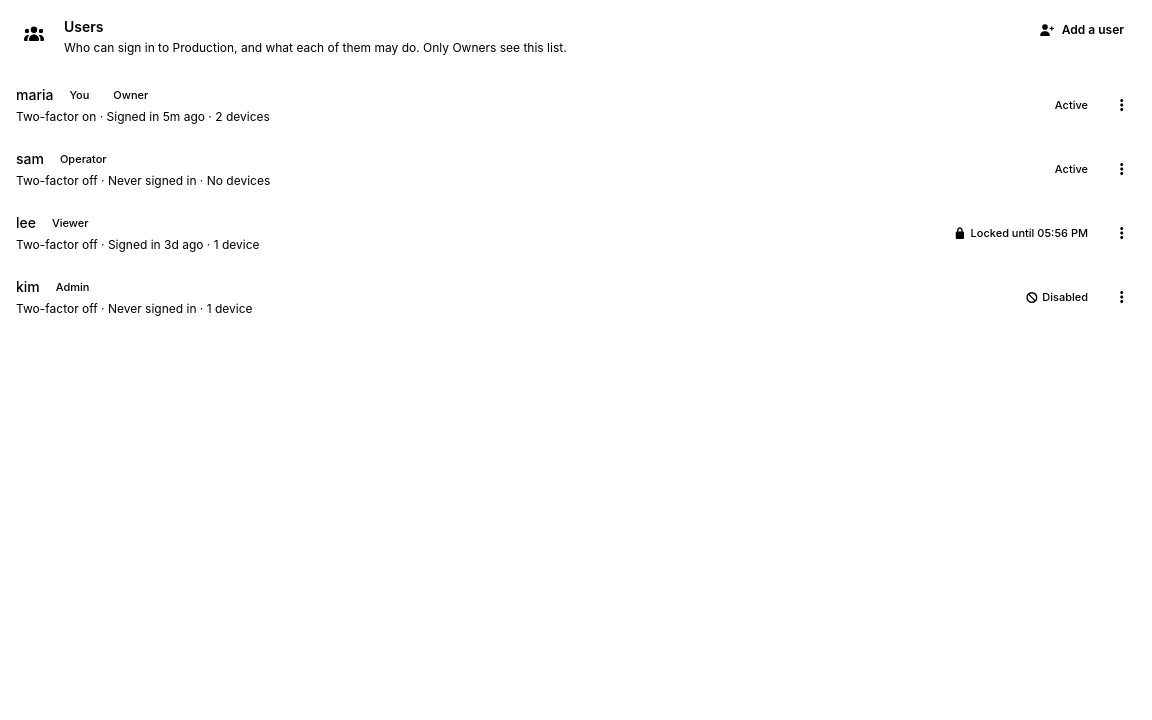
Scenario: UsersCard › keeps the dialog open with the core's reason when it refuses the new user
Click the button "Add a user": click(1081, 30) [1027,16,1136,44]
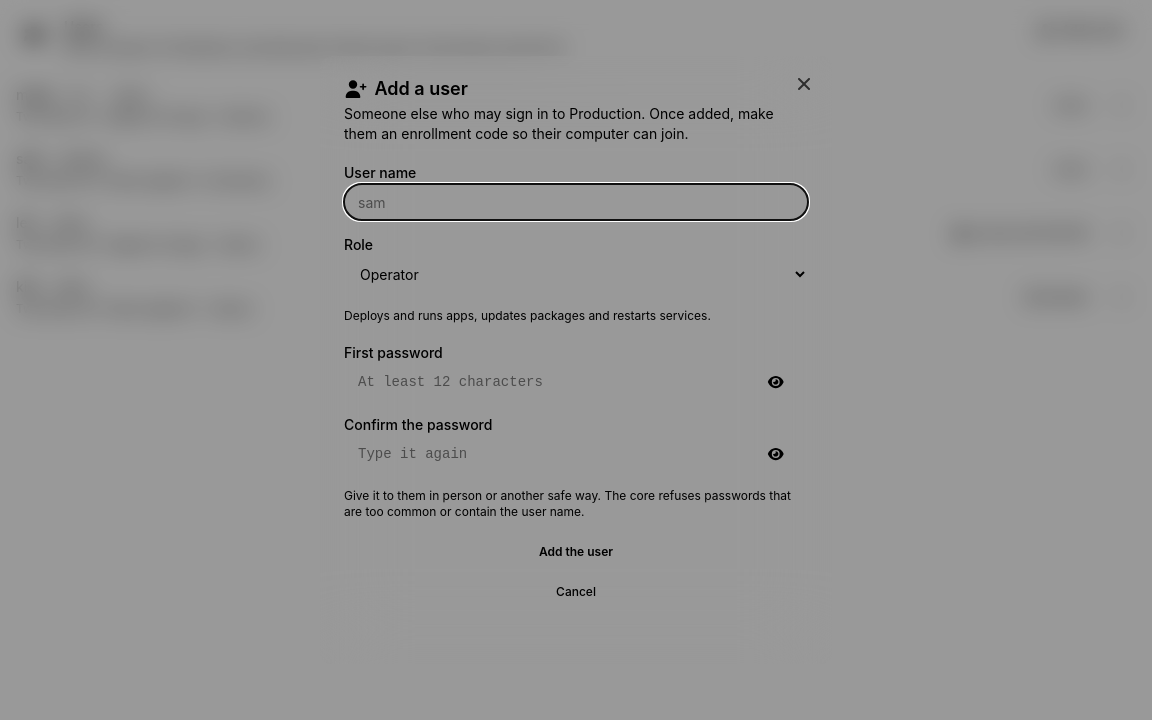
In the field labelled "User name": (576, 202) [344,184,808,220], type "ana"
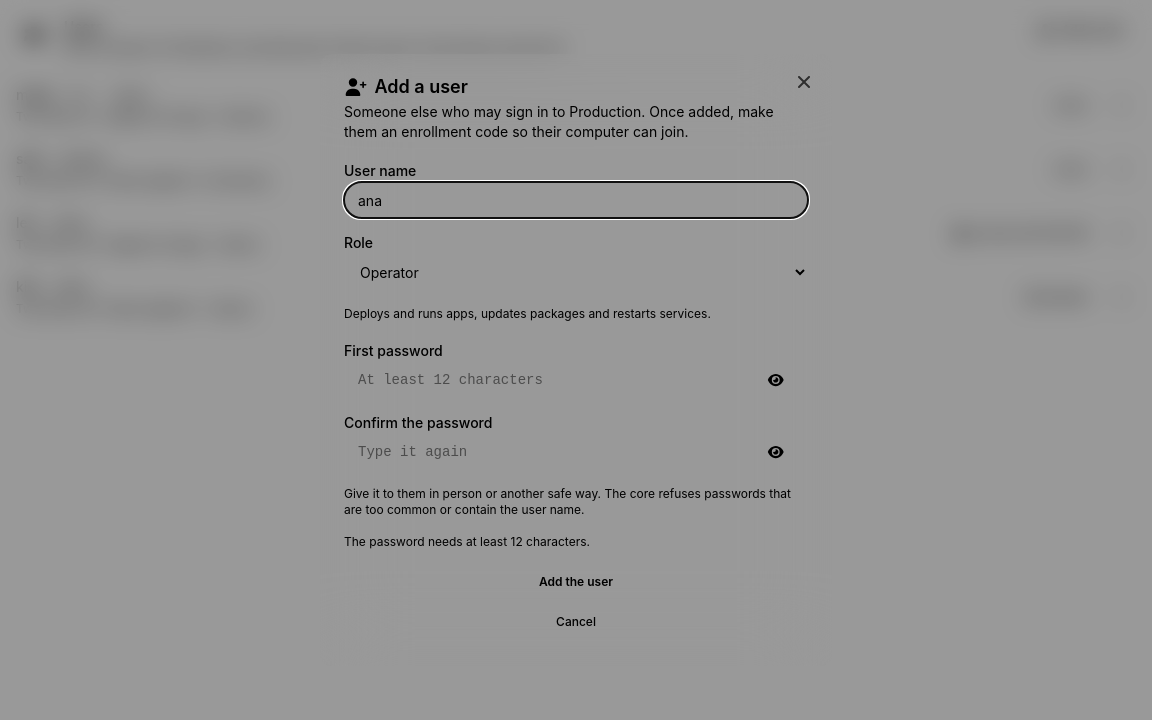
In the password field labelled "First password": (576, 380) [344,362,808,398], type "a brand new passphrase"
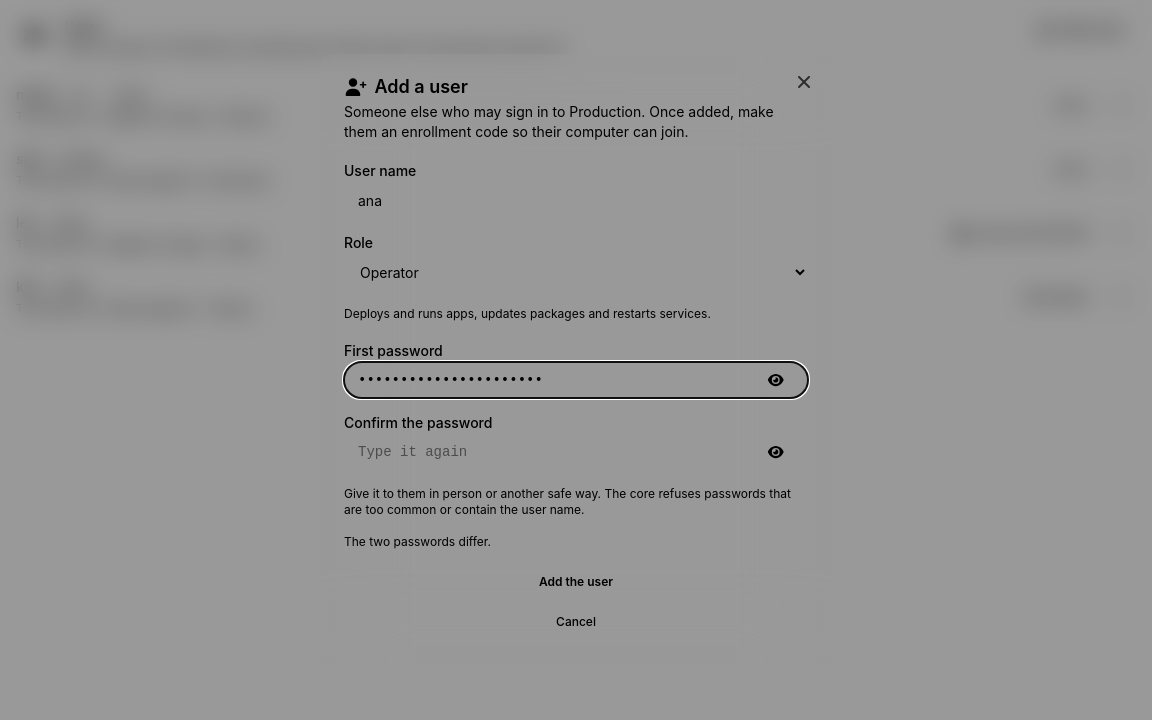
In the password field labelled "Confirm the password": (576, 452) [344,434,808,470], type "a brand new passphrase"
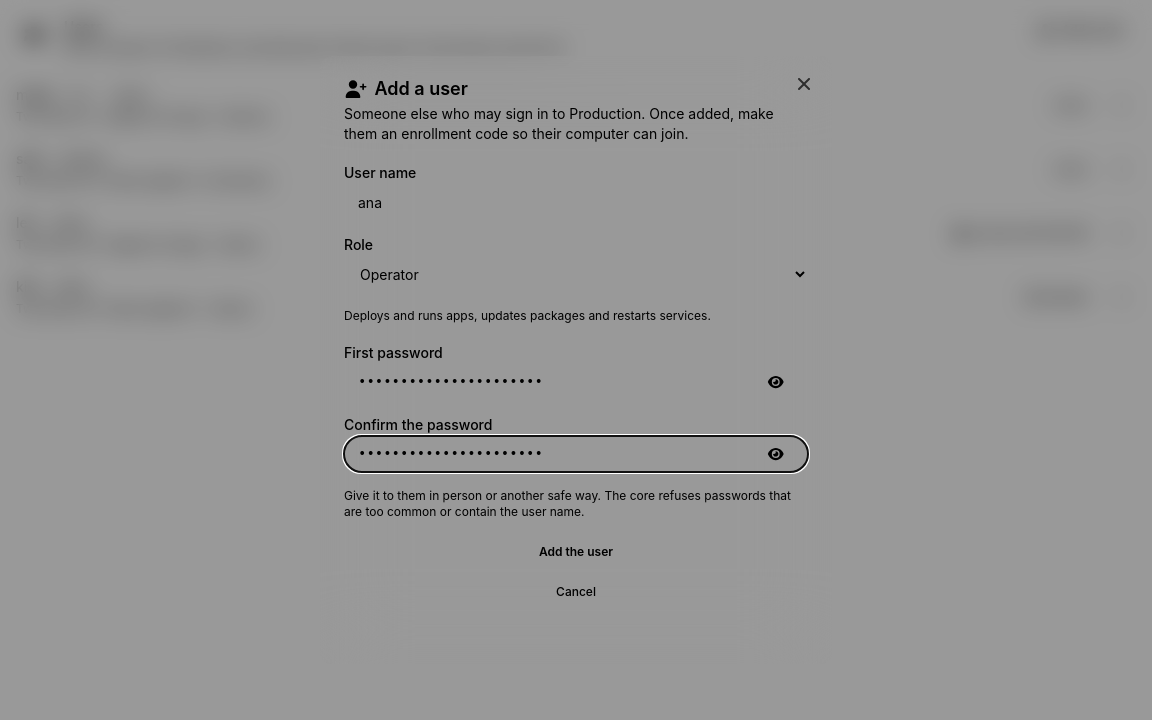
Click the button "Add the user": click(576, 552) [344,536,808,568]
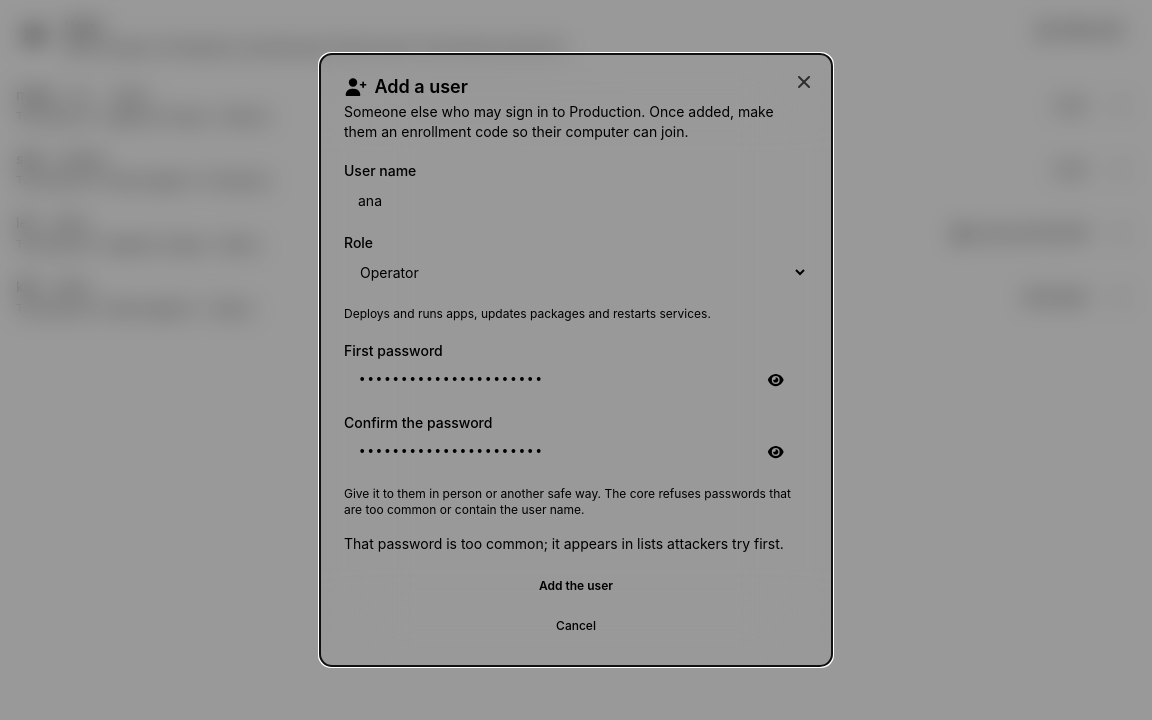
Result: the message shows "too common" at [344,535,784,552]
